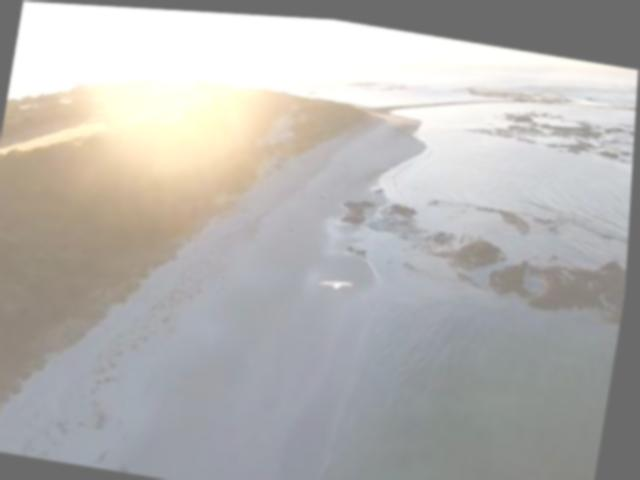uav: (319, 267, 361, 291)
